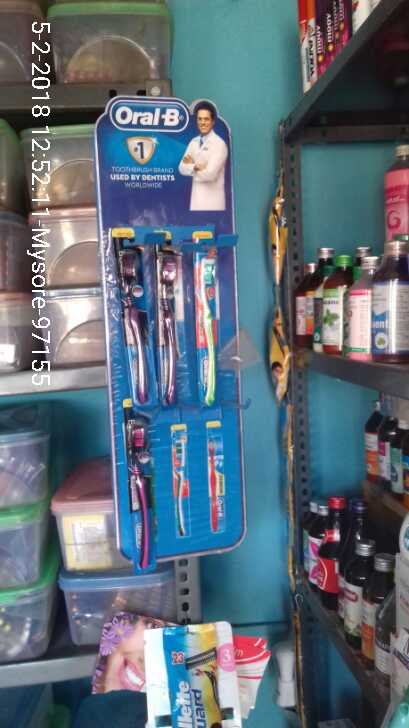oralb: (108, 251, 154, 414), (147, 251, 186, 403), (191, 263, 227, 408)
